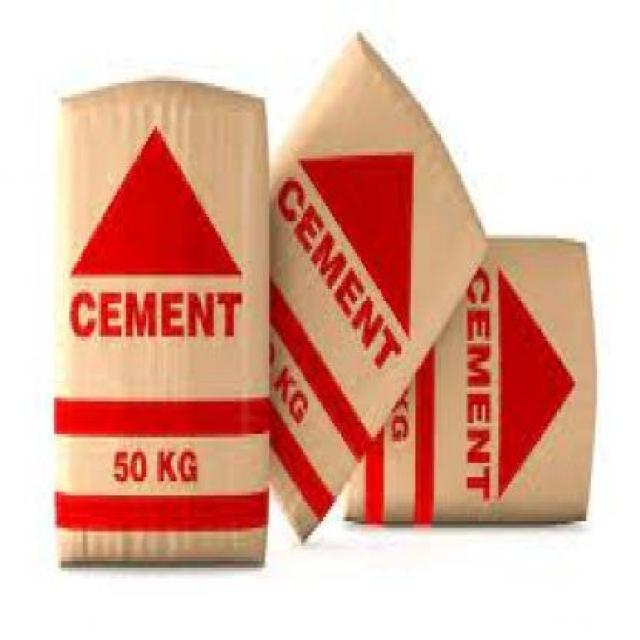gunny_bag: (271, 39, 490, 546), (61, 96, 270, 575), (351, 242, 599, 519)
